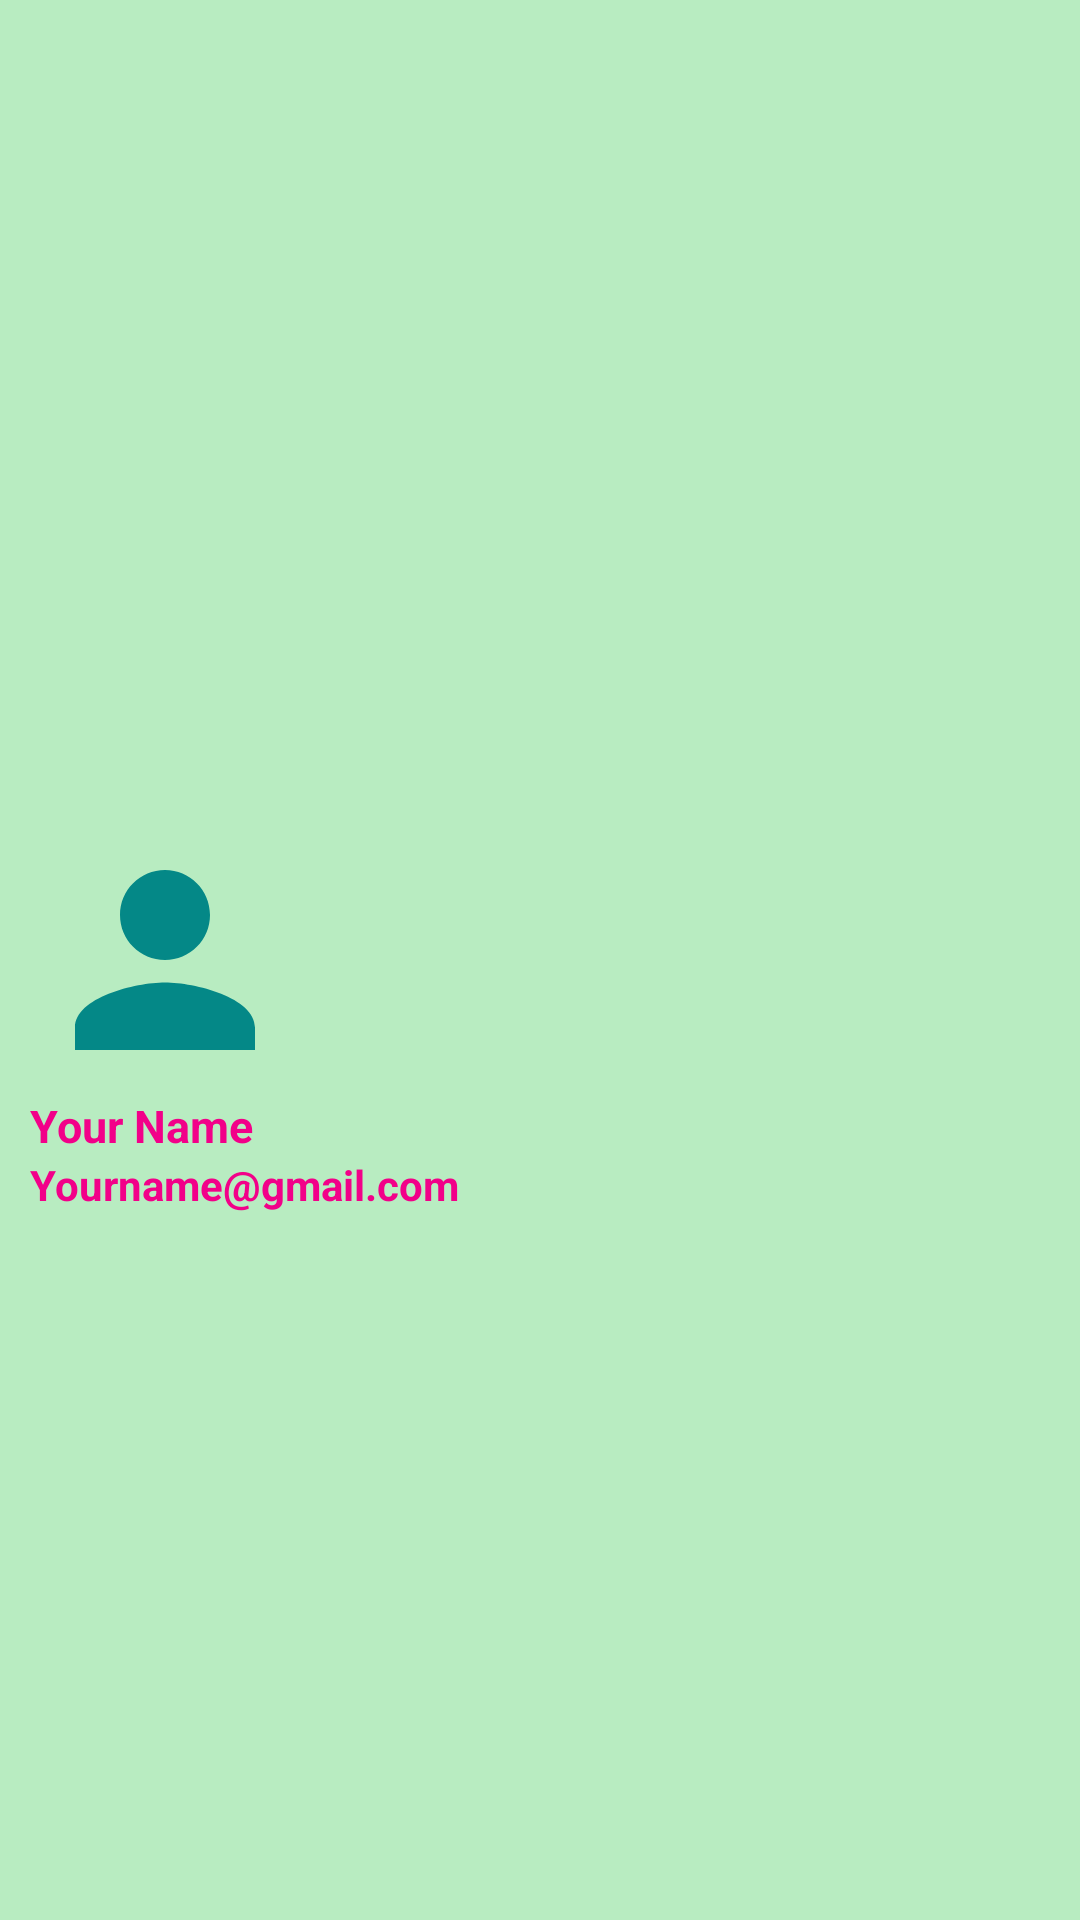

Icon bounding boxes for this 1080px×1920px phone screenshot, format (x1, y1, x2, y2):
person: (75, 870, 255, 1050)
